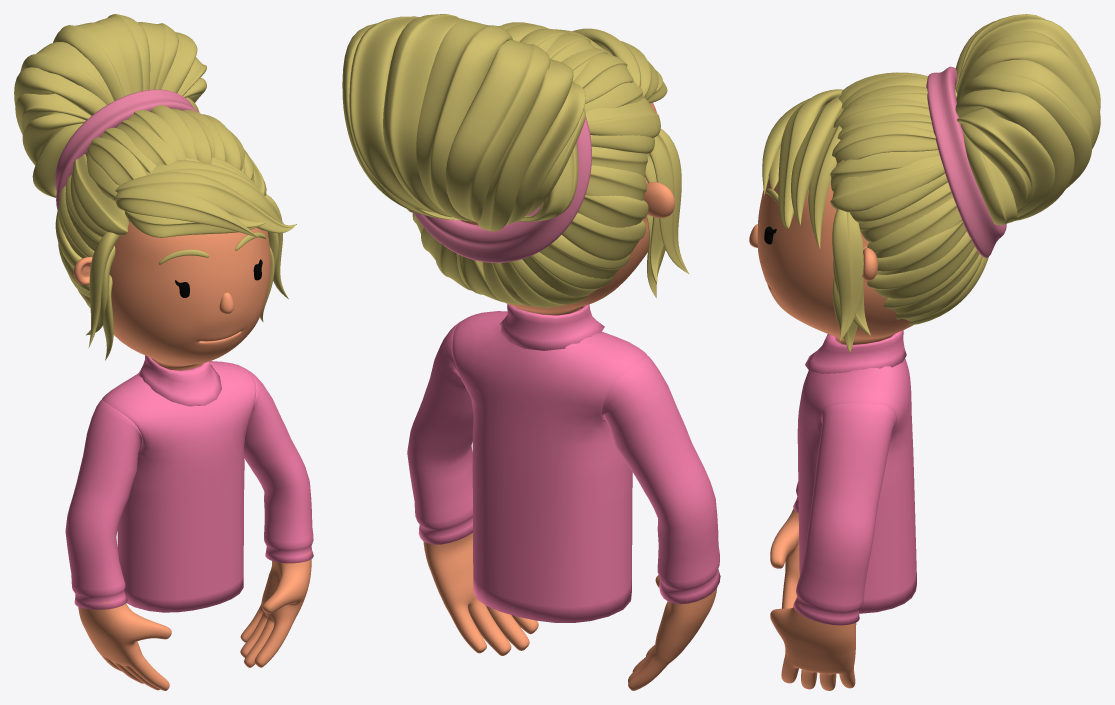
File: clementine.gltf
3 renders of one model, left to right at view 1: azimuth 30°, elevation 25°; view 2: azimuth 150°, elevation 25°; view 3: azimuth 270°, elevation 25°, orthographic. The views are drawn at different scales.
Visible parts, largest first — view 1: female_turtelneck, Hair16, head, body; view 2: Hair16, female_turtelneck, body, head; view 3: Hair16, female_turtelneck, head, body.
Part boxes in pixels (left/top/right/bottom): female_turtelneck: left=65, top=355, right=313, bottom=612; Hair16: left=14, top=14, right=296, bottom=360; head: left=73, top=222, right=270, bottom=370; body: left=78, top=551, right=311, bottom=690; Hair16: left=342, top=14, right=689, bottom=307; female_turtelneck: left=407, top=304, right=720, bottom=622; body: left=423, top=533, right=717, bottom=690; head: left=460, top=102, right=674, bottom=315; Hair16: left=762, top=14, right=1100, bottom=353; female_turtelneck: left=793, top=330, right=916, bottom=625; head: left=757, top=179, right=913, bottom=344; body: left=770, top=509, right=856, bottom=690.
Bounding box in the file's own units: 6.22 × 14.67 × 7.38.
